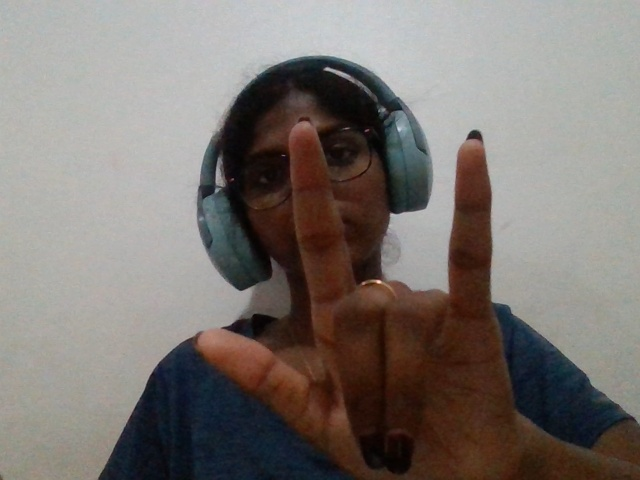I Love You: (172, 105, 589, 480)
